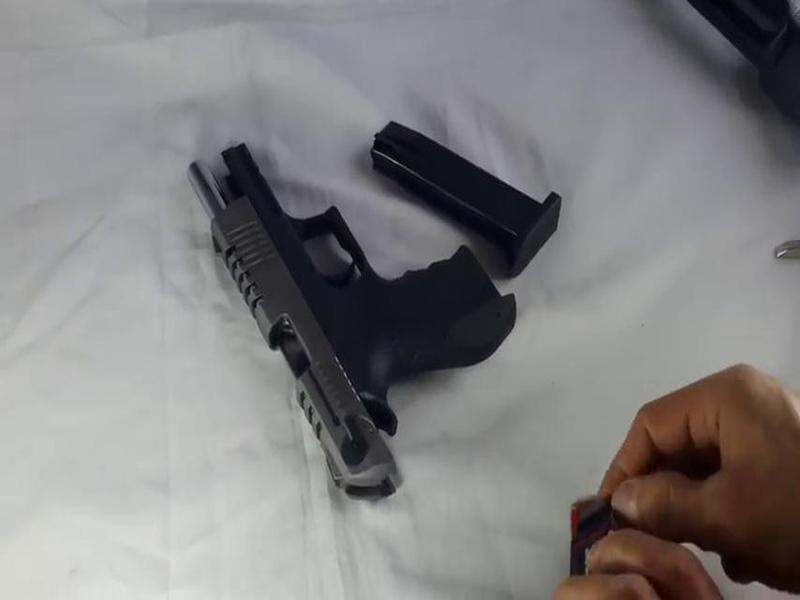Pistola: (181, 138, 530, 506)
